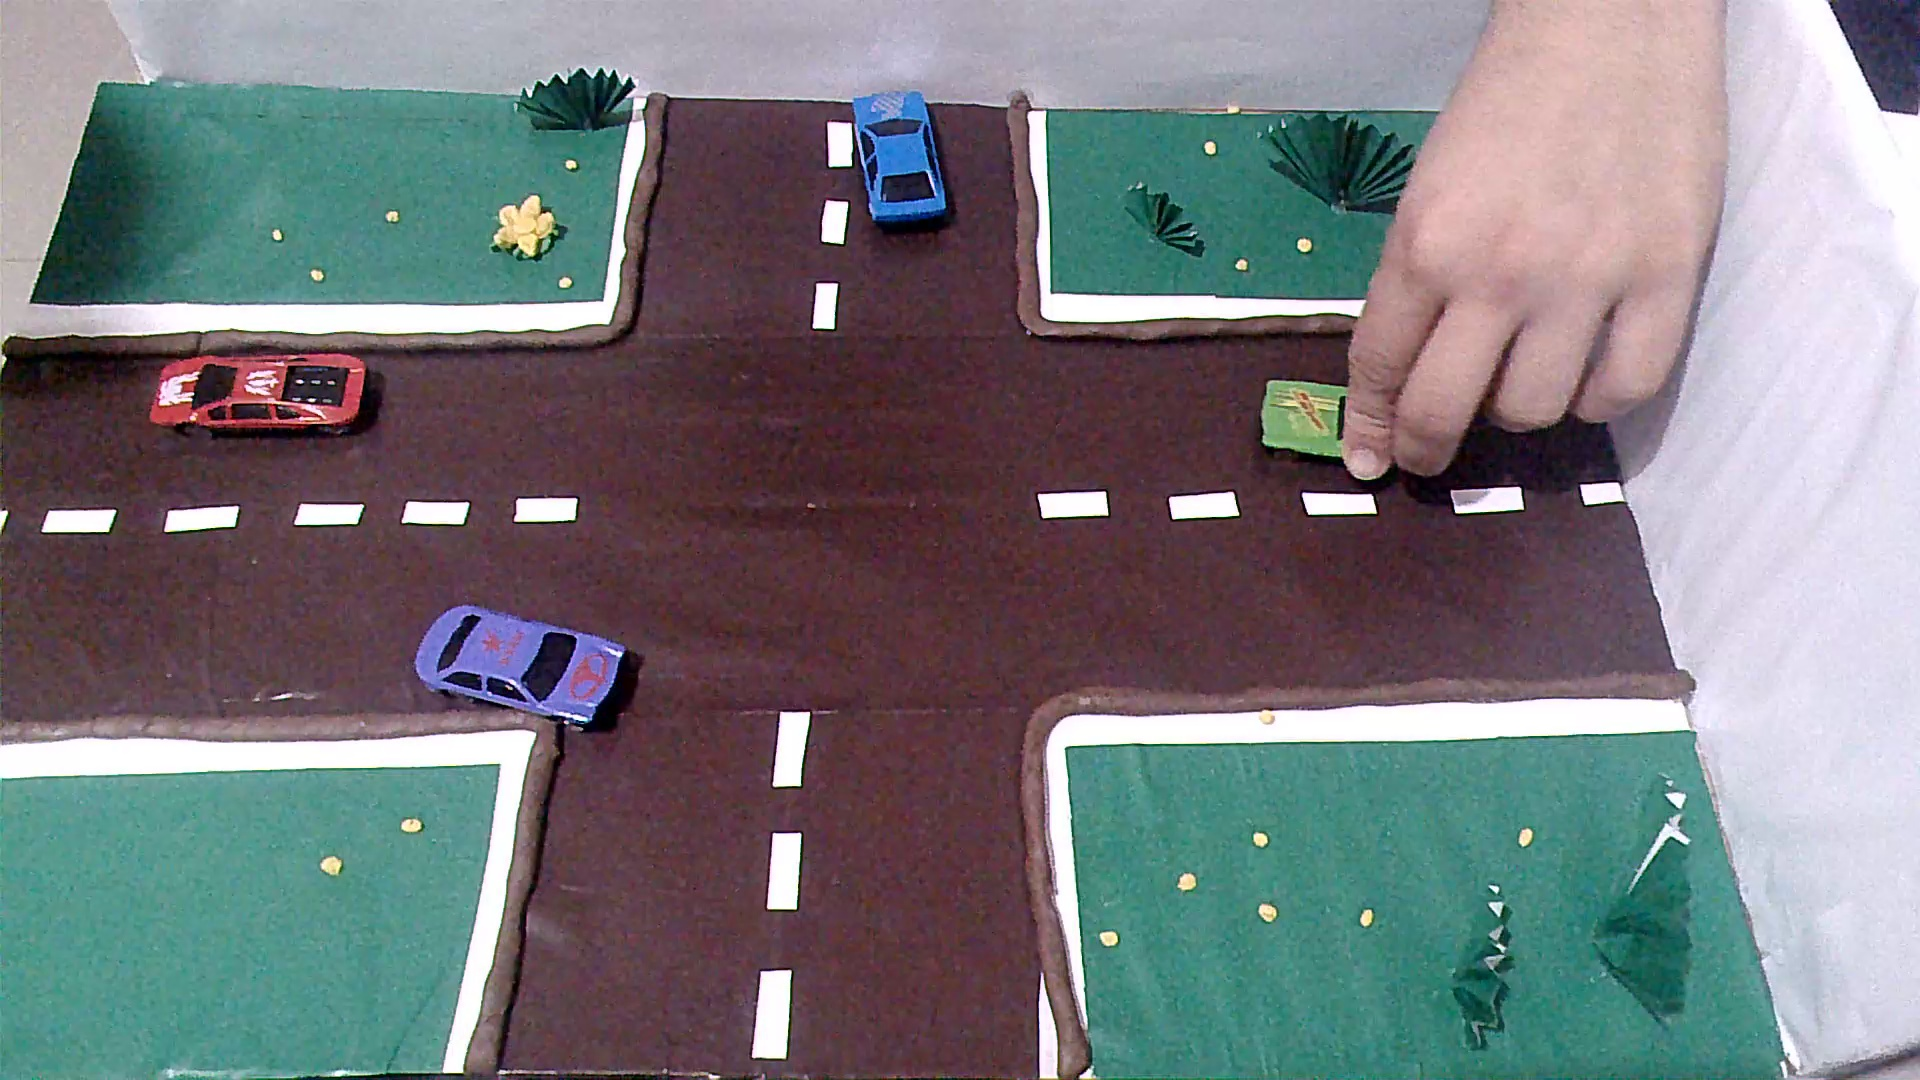car: (411, 604, 626, 735), (146, 347, 372, 446), (1251, 377, 1462, 481), (852, 84, 943, 241)
